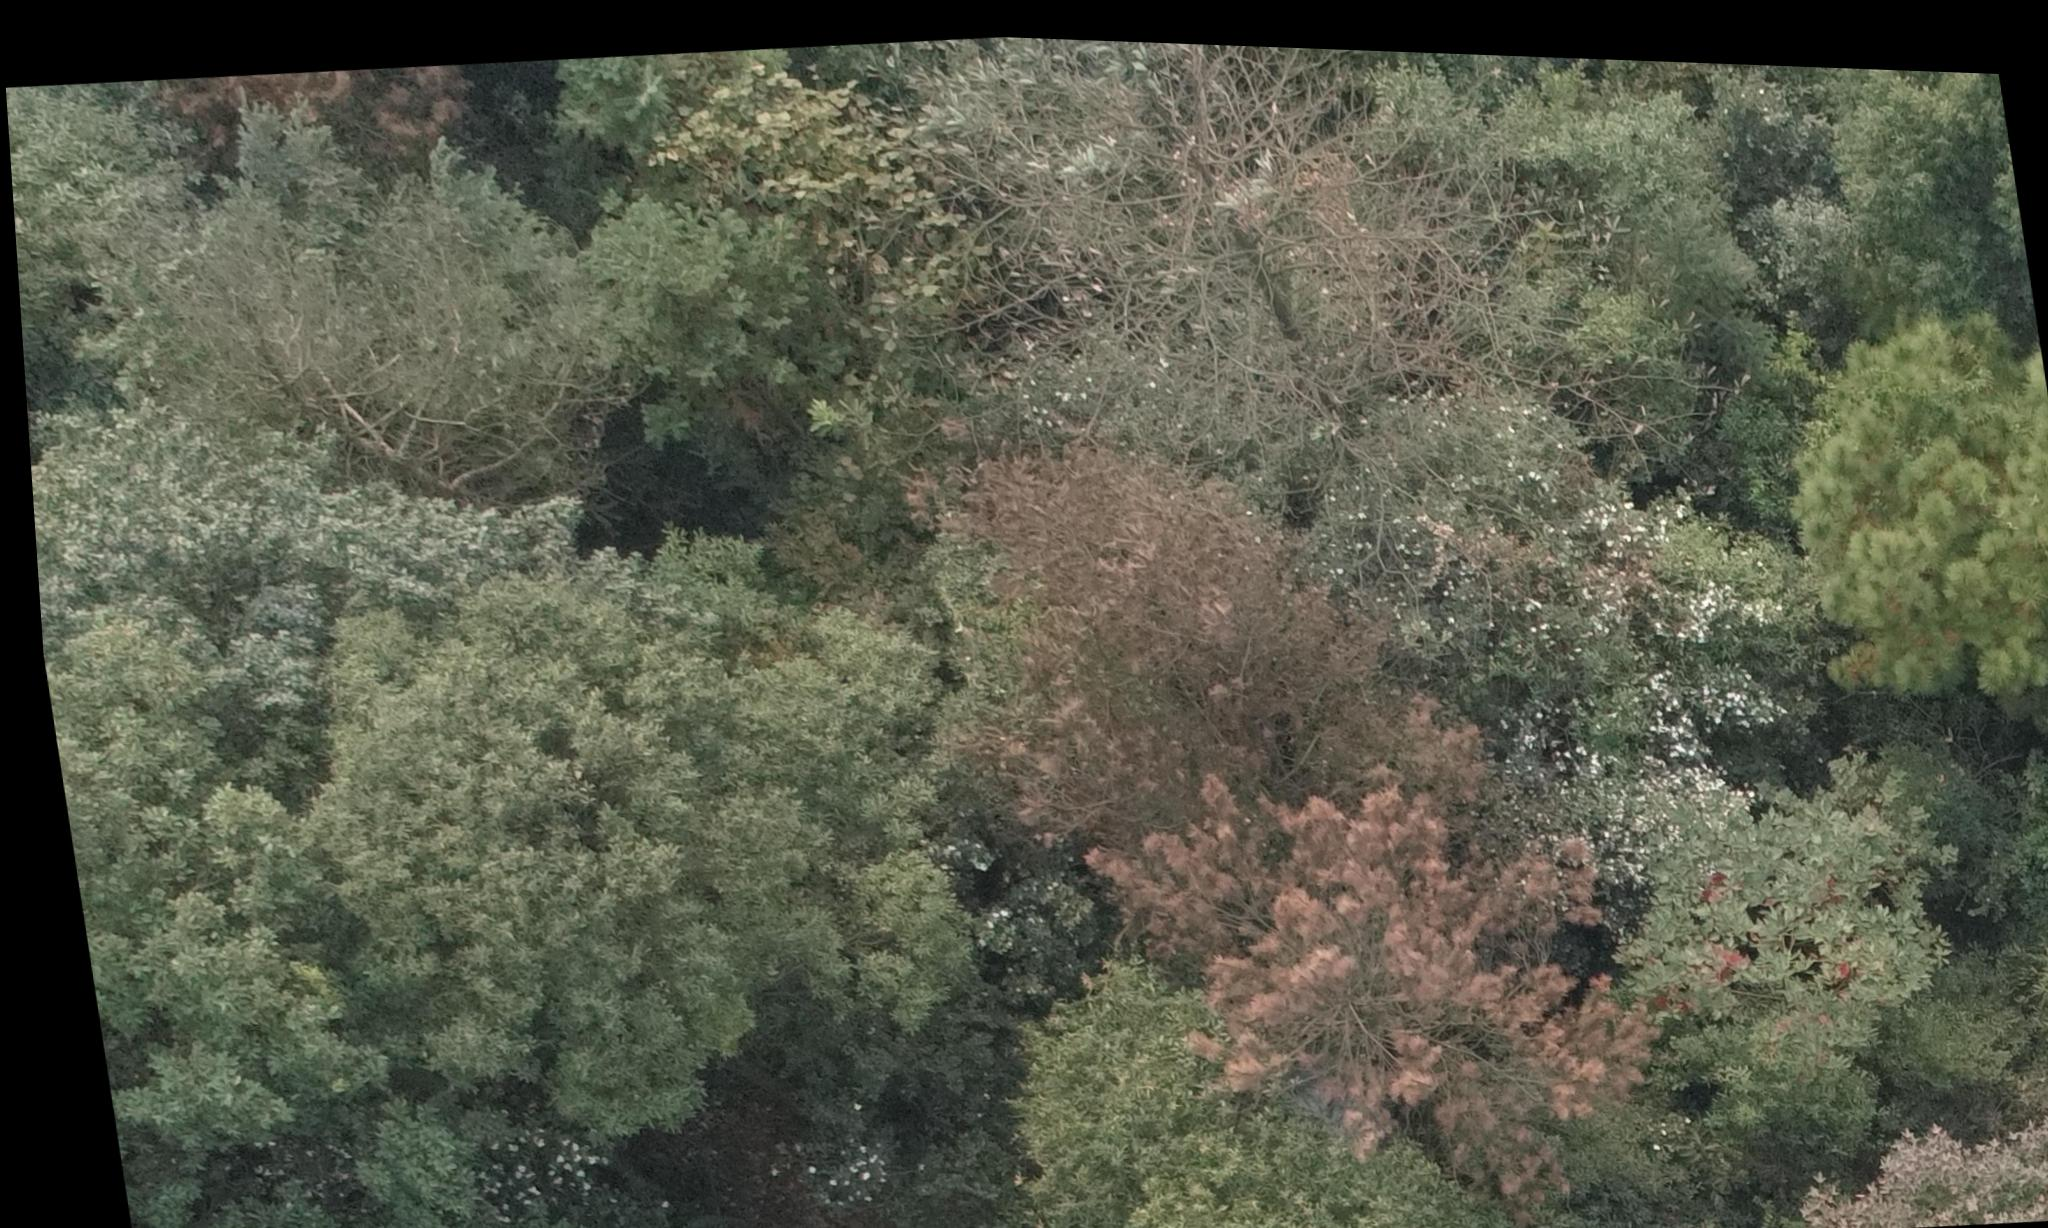heavy: (1050, 700, 1658, 1210)
